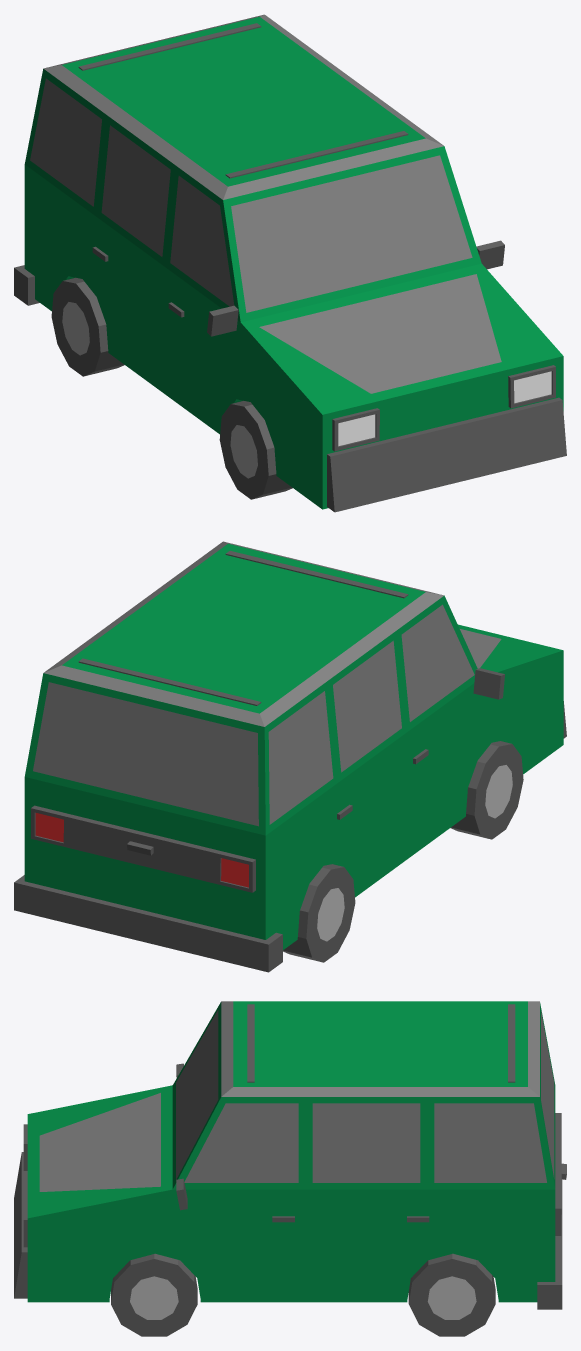
Rendered from SM_Car_08_04.FBX.
3 renders of one model, top to bottom at view 1: azimuth 30°, elevation 25°; view 2: azimuth 150°, elevation 25°; view 3: azimuth 270°, elevation 25°, orthographic. The views are drawn at different scales.
Parts seen in each view (by area): view 1: SM_Car_08_04, SM_Wheel_RBack001, SM_Wheel_LFront002; view 2: SM_Car_08_04, SM_Wheel_LFront002, SM_Wheel_RBack001; view 3: SM_Car_08_04, SM_Wheel_LBack001, SM_Wheel_LFront001.
Boxes of the visible parts, bbox=[...] form: SM_Car_08_04: bbox=[14, 14, 566, 512]; SM_Wheel_RBack001: bbox=[51, 277, 124, 376]; SM_Wheel_LFront002: bbox=[219, 401, 292, 499]; SM_Car_08_04: bbox=[14, 541, 566, 972]; SM_Wheel_LFront002: bbox=[450, 741, 523, 839]; SM_Wheel_RBack001: bbox=[283, 864, 355, 962]; SM_Car_08_04: bbox=[14, 1001, 566, 1309]; SM_Wheel_LBack001: bbox=[408, 1253, 495, 1336]; SM_Wheel_LFront001: bbox=[111, 1253, 197, 1336].
Bounding box in the file's own units: 1.7 × 1.5 × 3.15.
1 material, 1 textured.
